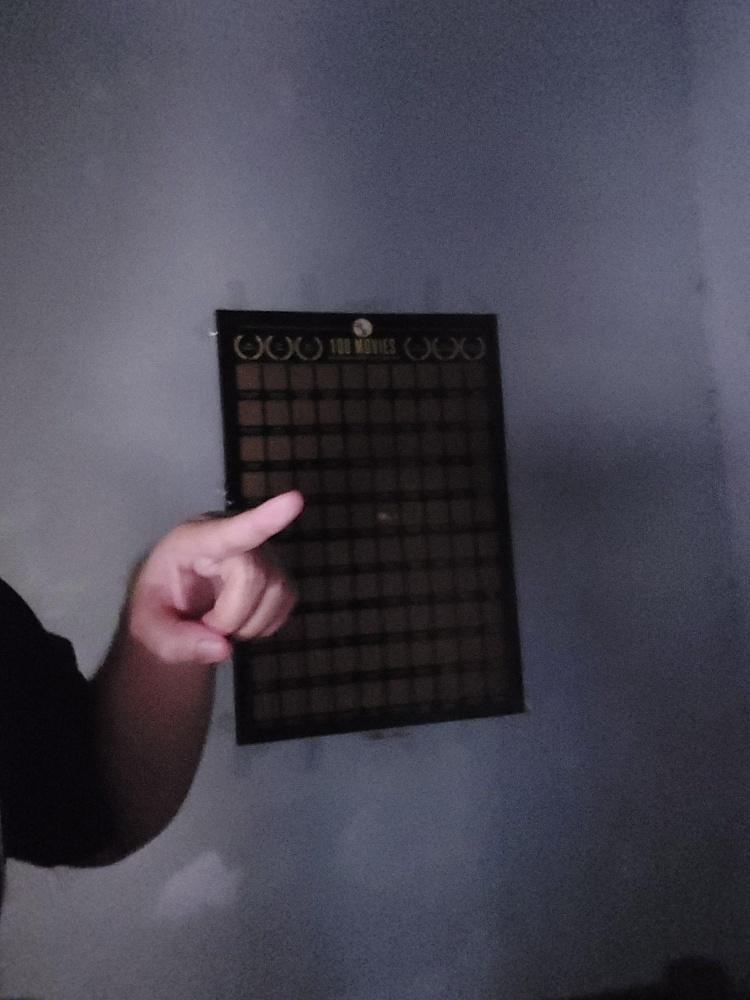z: (123, 491, 305, 669)
